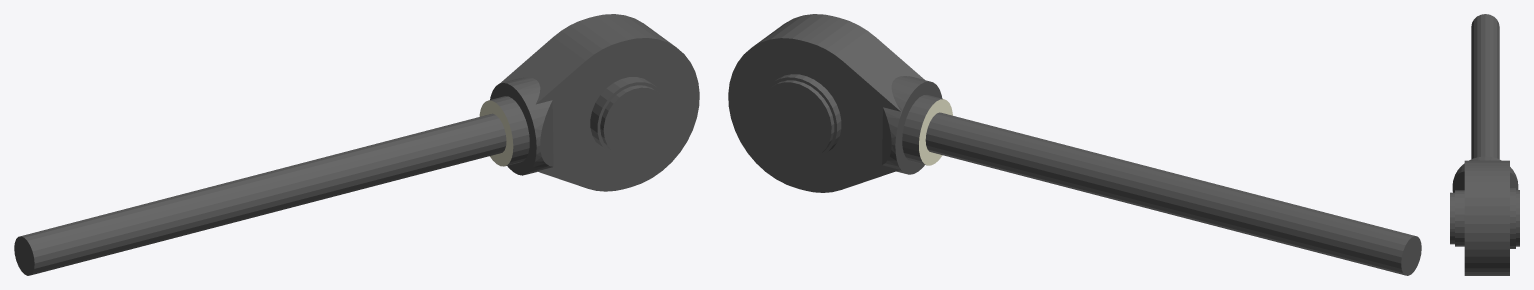
File: piston.dae
3 views of the same model, side by side, from view 1: azimuth 30°, elevation 25°; view 2: azimuth 150°, elevation 25°; view 3: azimuth 270°, elevation 25° (orthographic). The views are drawn at different scales.
Parts seen in each view (by area): view 1: link_08; view 2: link_08; view 3: link_08.
Boxes of the visible parts, left/top/right/bottom form: link_08: left=14, top=14, right=699, bottom=275; link_08: left=728, top=14, right=1421, bottom=275; link_08: left=1450, top=14, right=1519, bottom=275.
Bounding box in the file's own units: 0.5606 × 0.074 × 0.1201.
